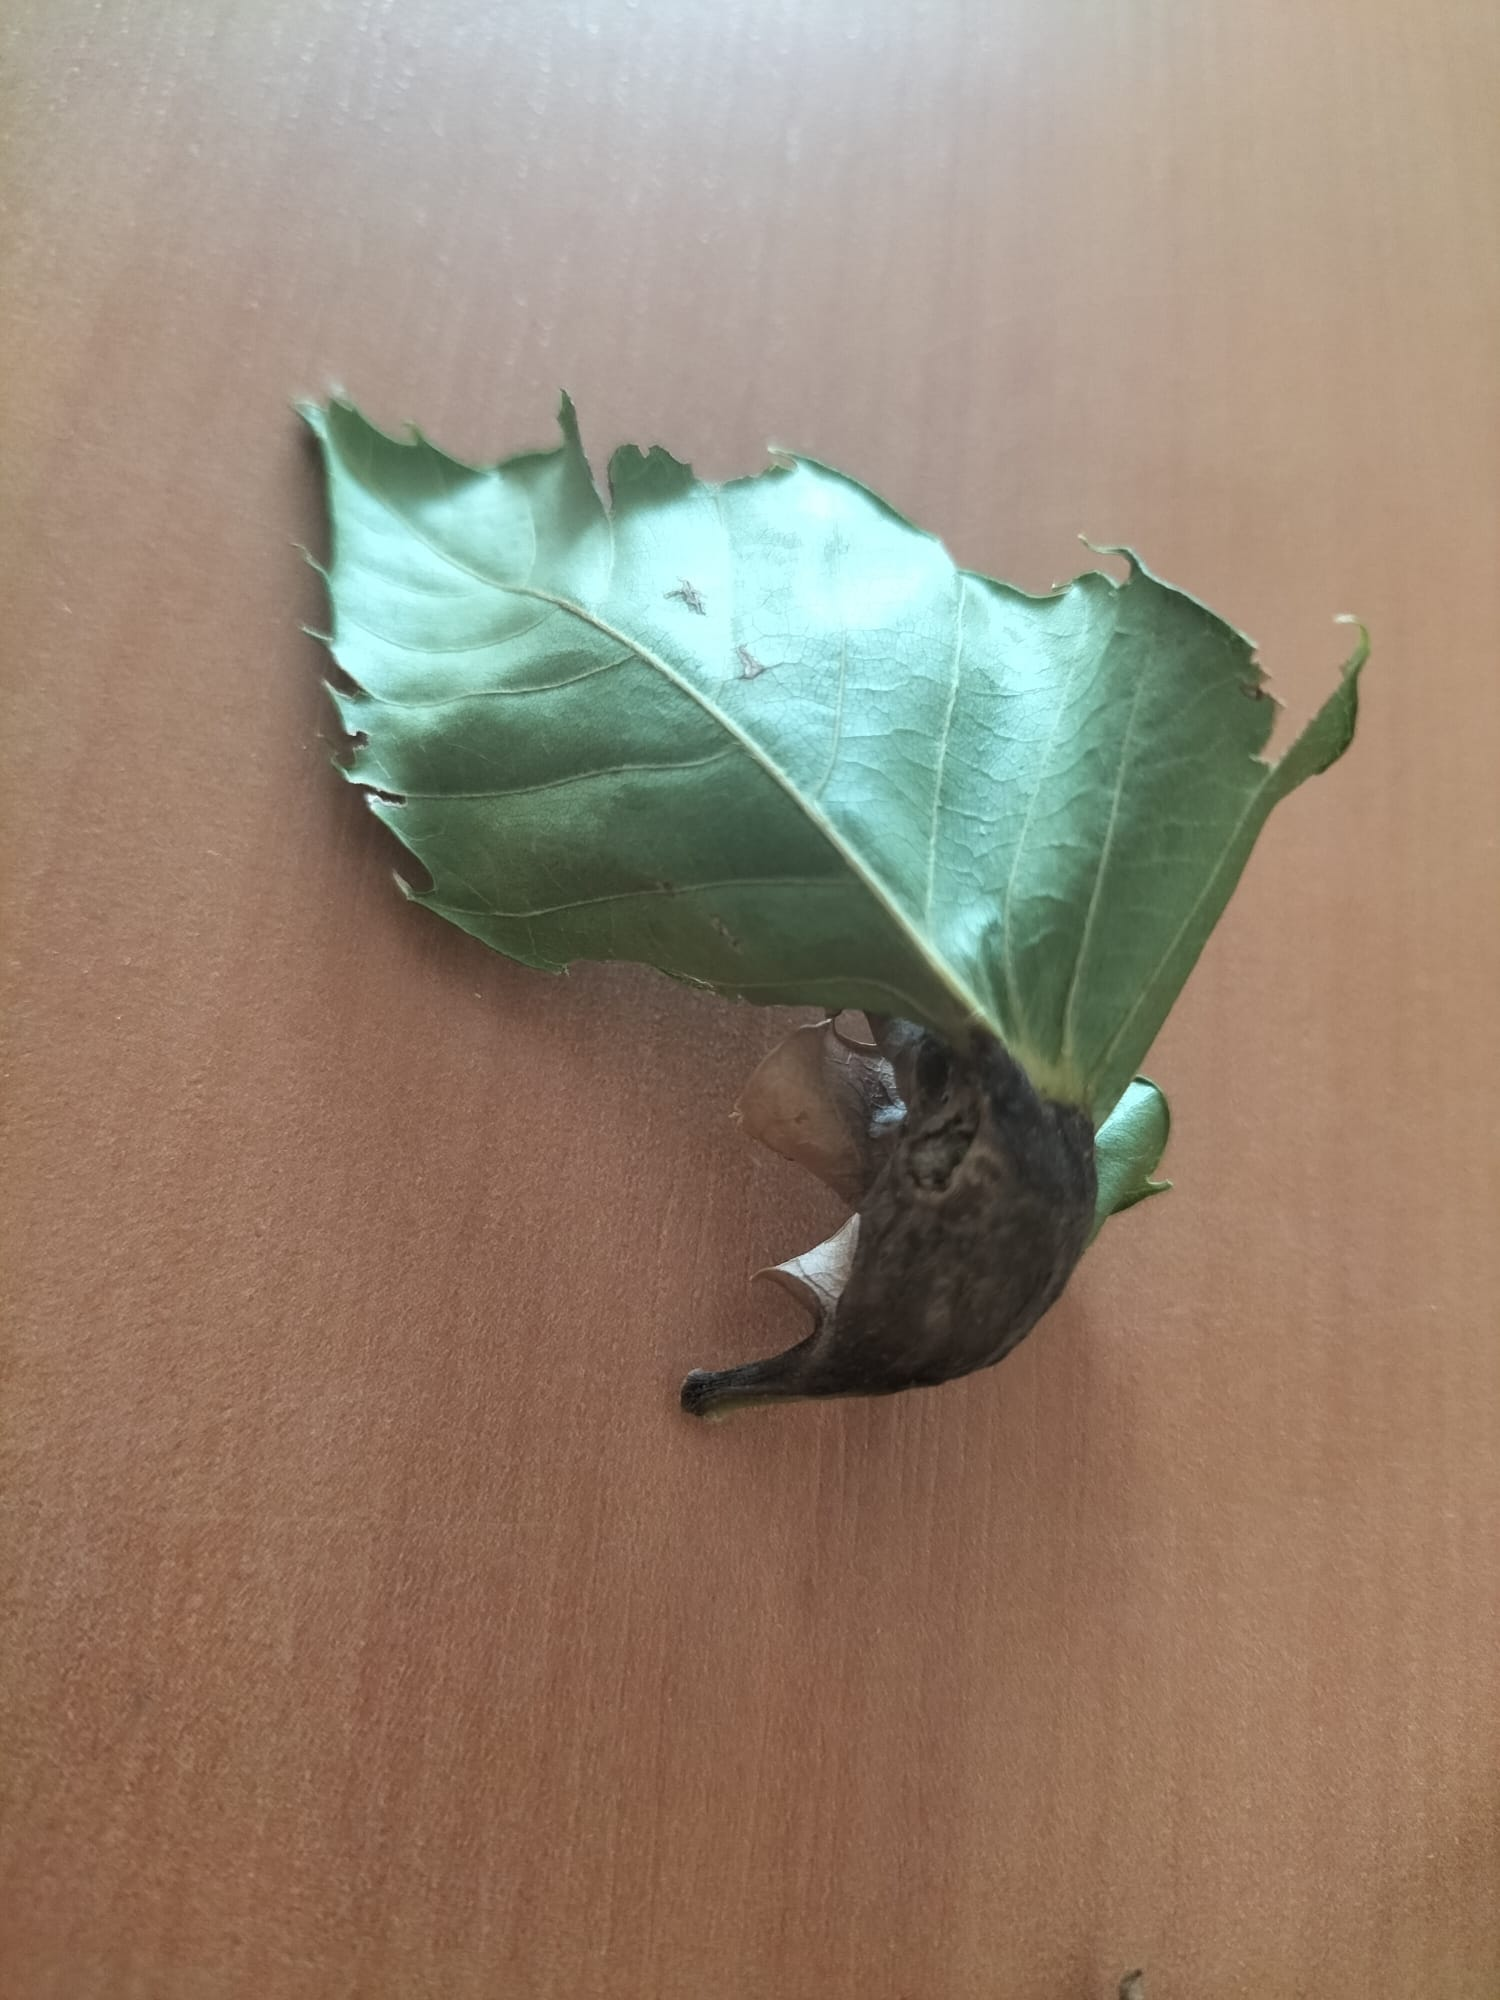galarisi: (655, 935, 1145, 1454)
